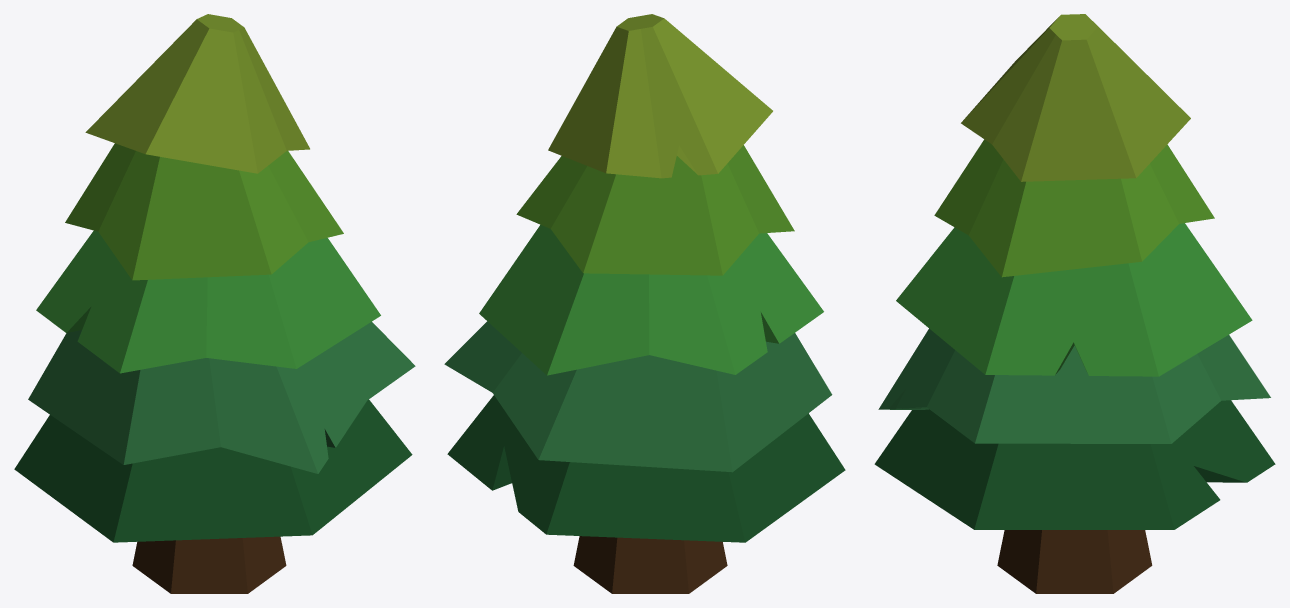
Rendered from PINE TREE.fbx.
3 views of the same model, side by side, from view 1: azimuth 30°, elevation 25°; view 2: azimuth 150°, elevation 25°; view 3: azimuth 270°, elevation 25° (orthographic).
Parts seen in each view (by area): view 1: Cylinder; view 2: Cylinder; view 3: Cylinder.
Part boxes in pixels (x1,y1,x2,y2): Cylinder: [14, 14, 415, 593]; Cylinder: [444, 14, 845, 593]; Cylinder: [874, 14, 1275, 593].
Bounding box in the file's own units: 426 × 731 × 485.
